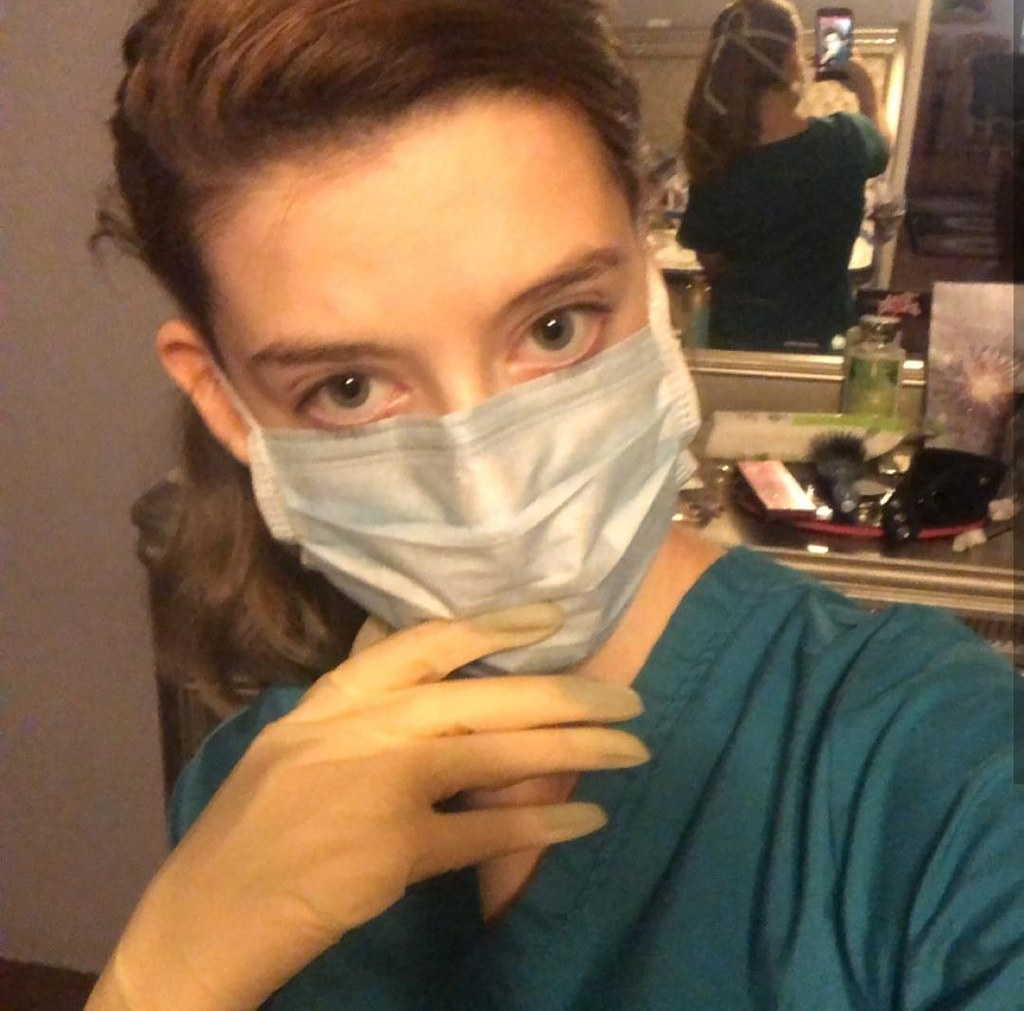surgical: (226, 316, 729, 686)
